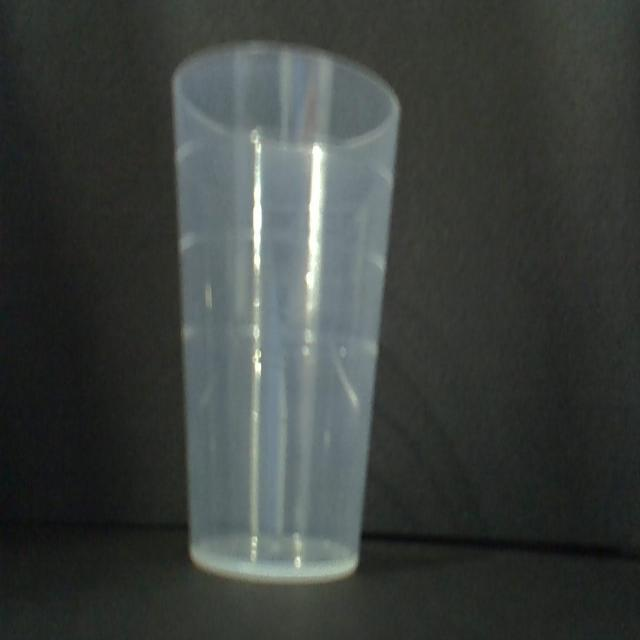cup: (174, 44, 399, 582)
